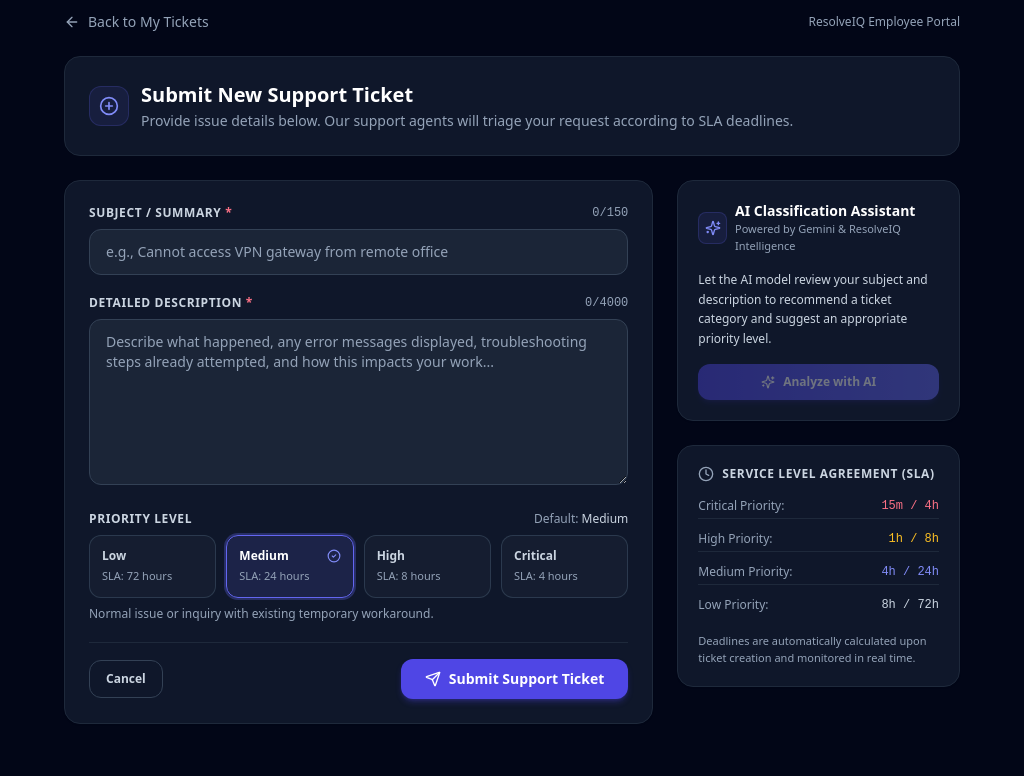
Test: Employee Portal — Dashboard, Create Ticket & My Tickets › CreateTicketPage Component › requests AI classification and applies priority only when accepted by user
Step 1. Type "External monitor black screen" into the field labelled "Subject / Summary *" → (359, 252), box [89,229,628,275]
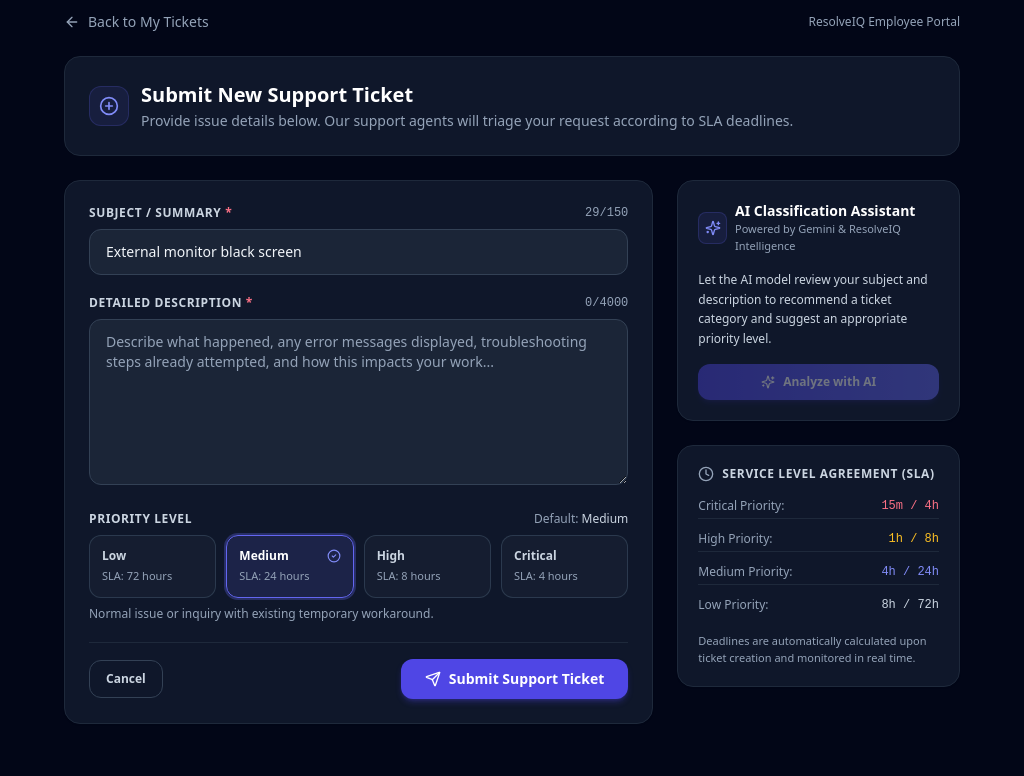
Step 2. Replace the text in the text box labelled "Detailed Description *" with "Dual monitor setup stopped working after restart." → (359, 402), box [89,319,628,485]
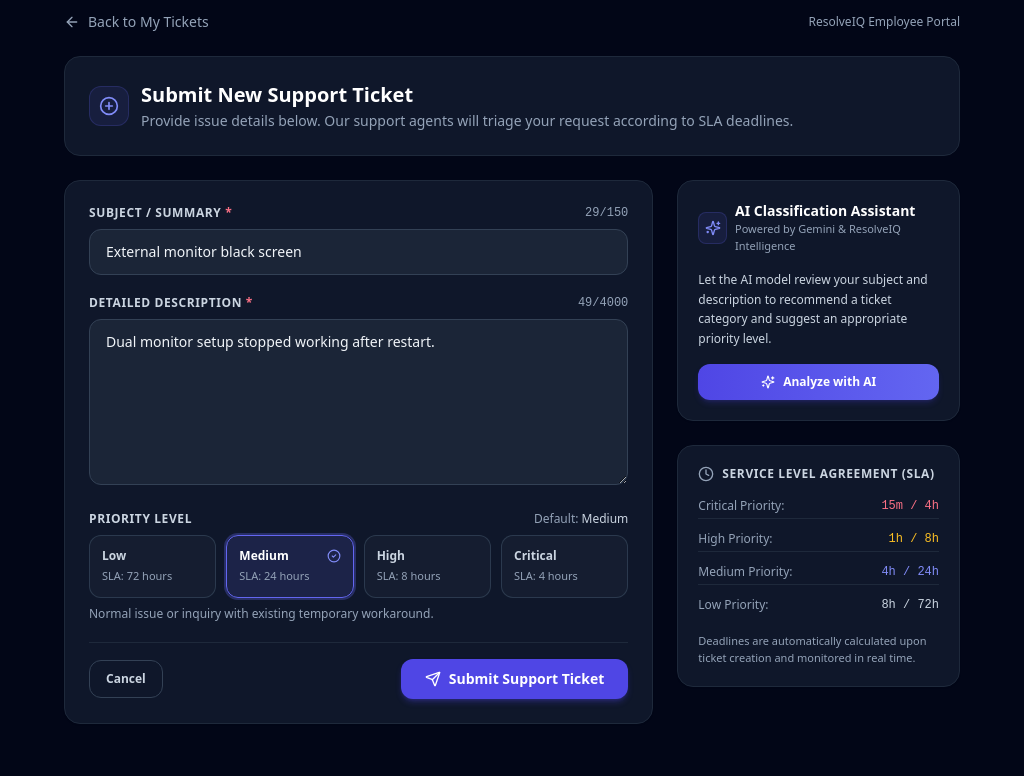
Step 3. Click the button "Analyze with AI" → (819, 382), box [698,364,939,400]
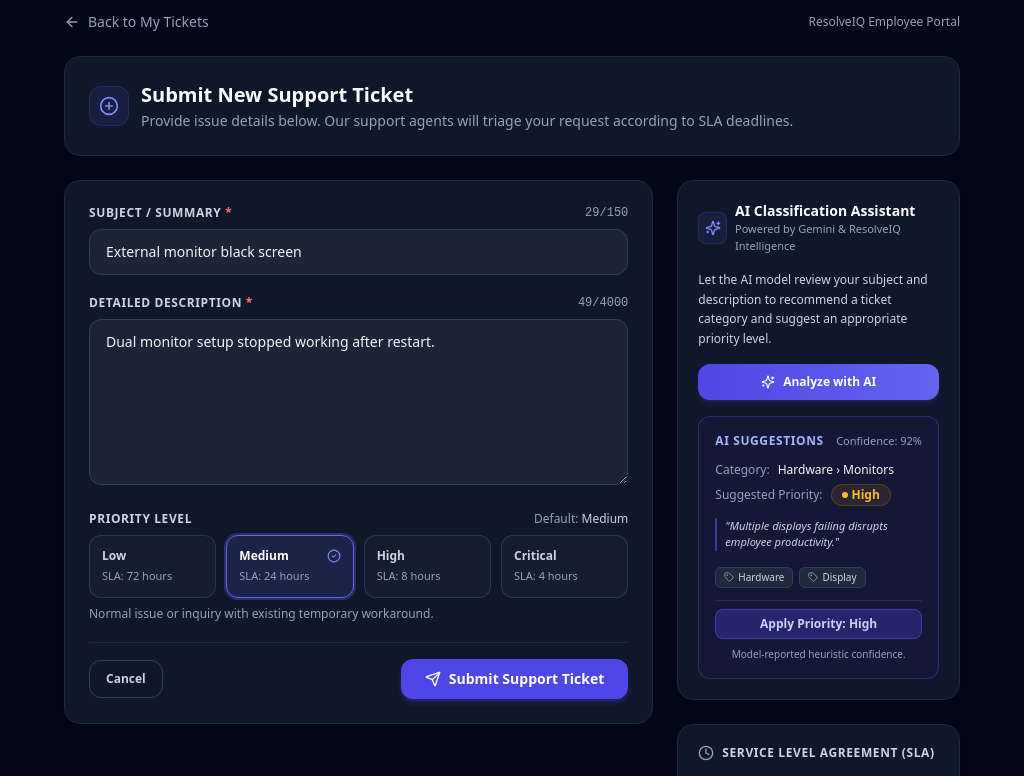
Result: the text "Hardware › Monitors" is shown at [778,462,894,478]
Result: the text "\"Multiple displays failing disrupts employee productivity.\"" is shown at [715,518,922,550]
Result: the text "Confidence: 92%" is shown at [836,433,922,450]
Note: Confirm priority has not been silently changed before clicking apply
Step 4. Click the button "Apply Priority: High" → (819, 624), box [715,608,922,638]
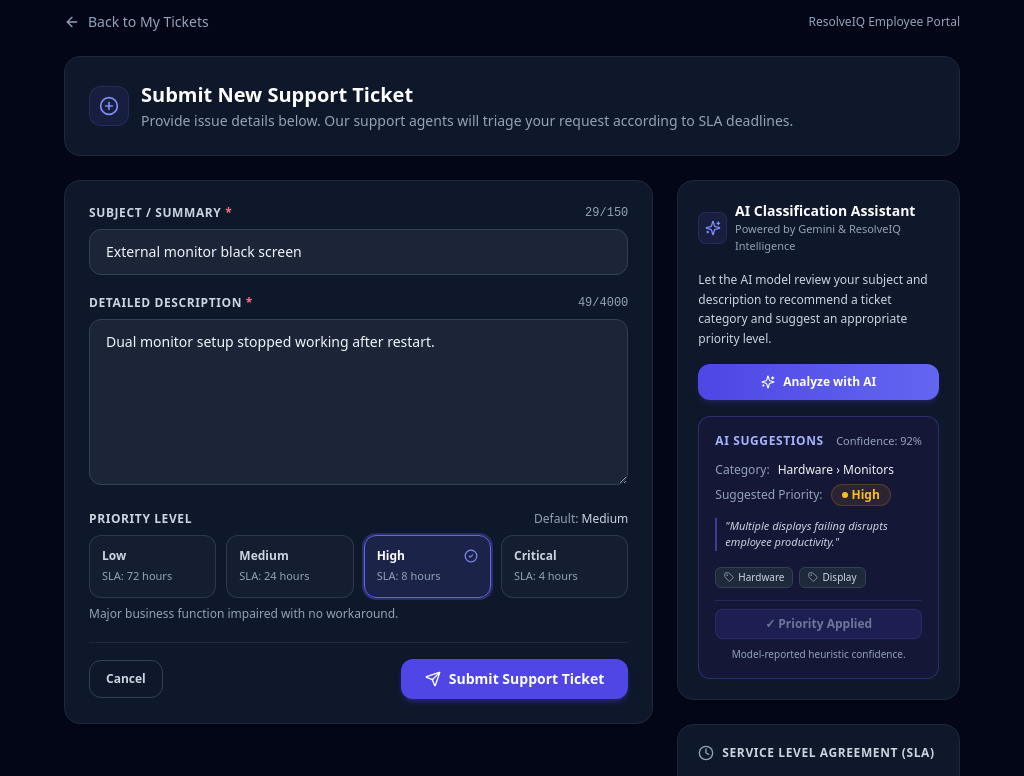
Result: the button "✓ Priority Applied" is shown at [715,608,922,638]
